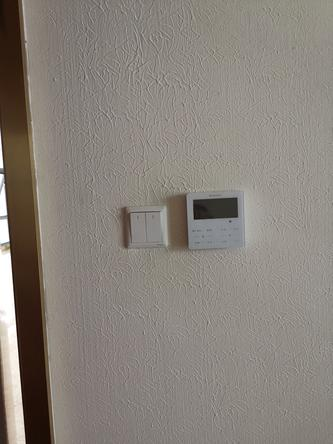switch: (129, 209, 150, 245), (144, 210, 165, 244)
